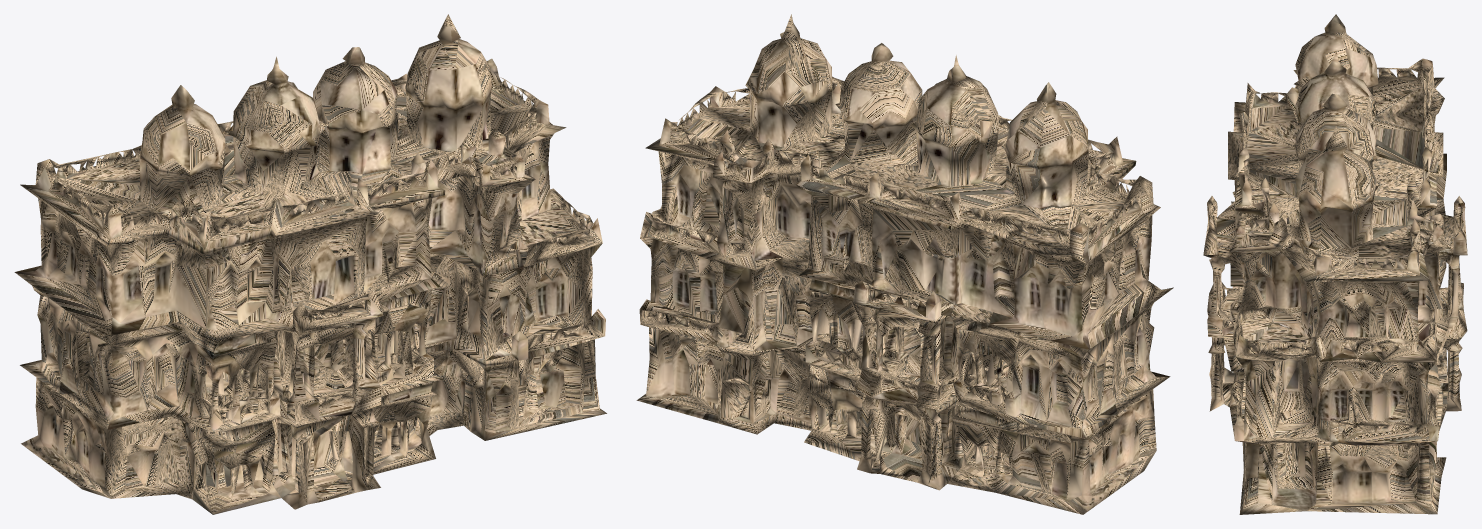
The model's file is Palace_of_the_Four_Do_2.glb.
3 views of the same model, side by side, from view 1: azimuth 30°, elevation 25°; view 2: azimuth 150°, elevation 25°; view 3: azimuth 270°, elevation 25° (orthographic). The views are drawn at different scales.
Visible parts, largest first — view 1: Palace_of_the_Four_Do_2; view 2: Palace_of_the_Four_Do_2; view 3: Palace_of_the_Four_Do_2.
Boxes of the visible parts, x1=… form: Palace_of_the_Four_Do_2: x1=14, y1=14, x2=606, y2=514; Palace_of_the_Four_Do_2: x1=636, y1=14, x2=1173, y2=514; Palace_of_the_Four_Do_2: x1=1203, y1=14, x2=1467, y2=514.
Size of the model in its own units: 1.9 by 1.48 by 1.02.
1 material, 1 textured.
